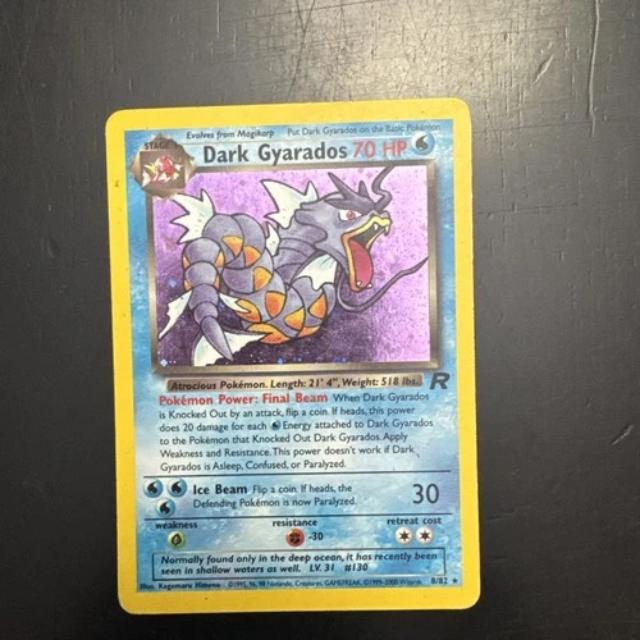Card: (101, 97, 483, 616)
Name: (198, 138, 352, 168)
